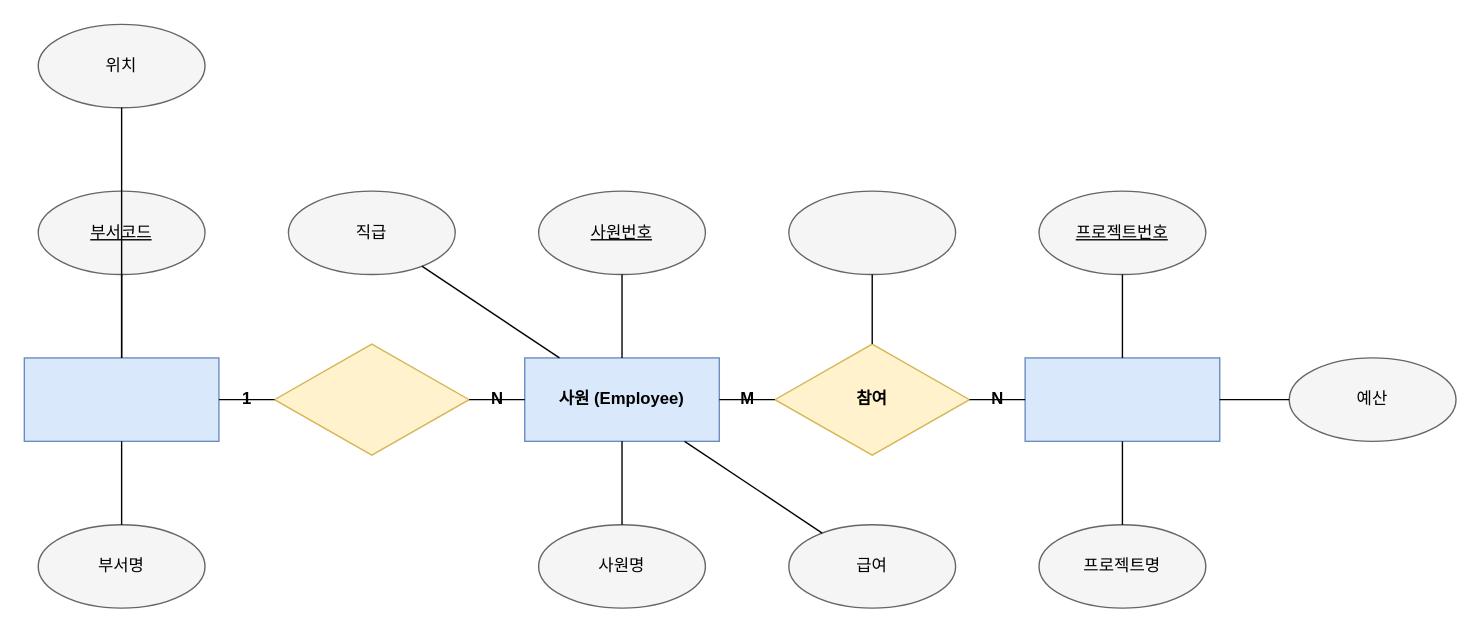
Image size: 1480x632. Some labels were removed from this diagram. Each missing label, with the centre of its shape:
부서 (Department): [121,399]
소속: [371,399]
참여기간: [871,232]
프로젝트 (Project): [1122,399]
